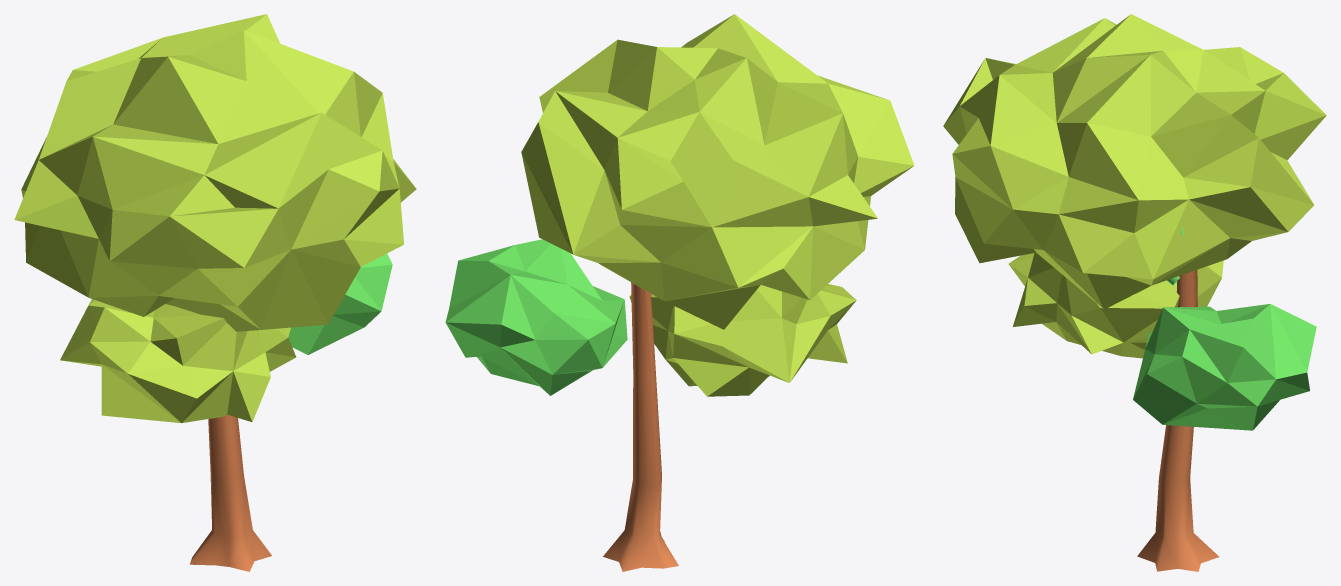
The model's file is tree_3.glb.
3 views of the same model, side by side, from view 1: azimuth 30°, elevation 25°; view 2: azimuth 150°, elevation 25°; view 3: azimuth 270°, elevation 25° (orthographic). The views are drawn at different scales.
Visible parts, largest first — view 1: Icosphere.015; view 2: Icosphere.015; view 3: Icosphere.015.
Boxes of the visible parts, x1=… form: Icosphere.015: x1=14, y1=14, x2=416, y2=571; Icosphere.015: x1=445, y1=14, x2=914, y2=571; Icosphere.015: x1=943, y1=14, x2=1326, y2=571.
Size of the model in its own units: 4.7 by 6.02 by 4.16.
